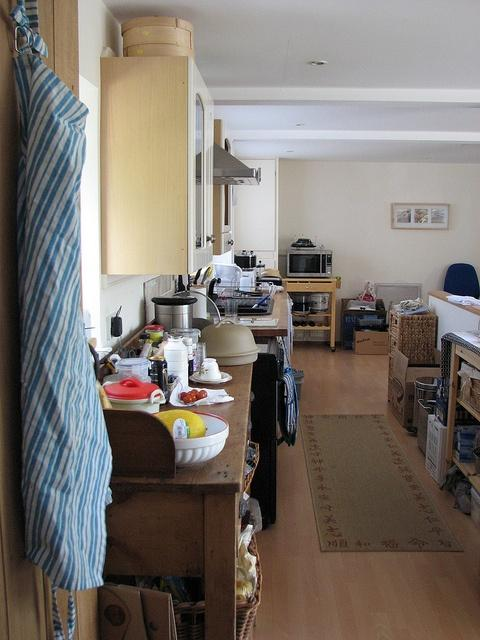Lemari: (101, 55, 215, 273)
